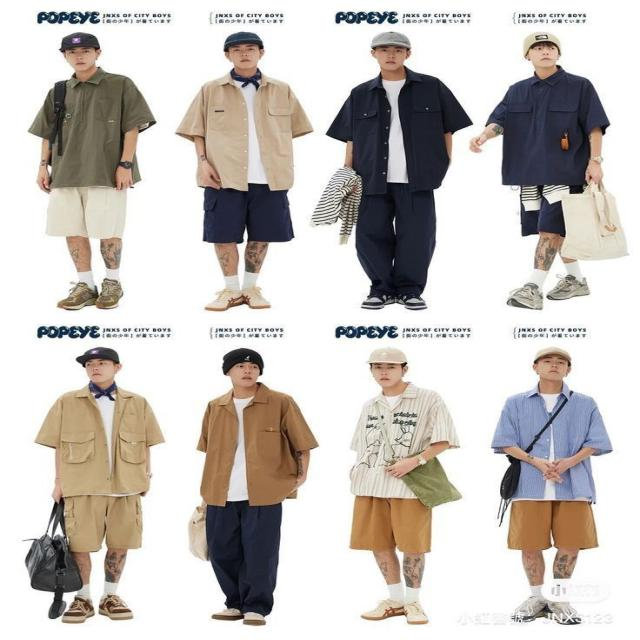person: (324, 31, 473, 310), (468, 31, 610, 310), (174, 31, 314, 311), (33, 346, 165, 624), (27, 32, 156, 310), (195, 347, 319, 625), (490, 346, 613, 624), (348, 347, 461, 624)
